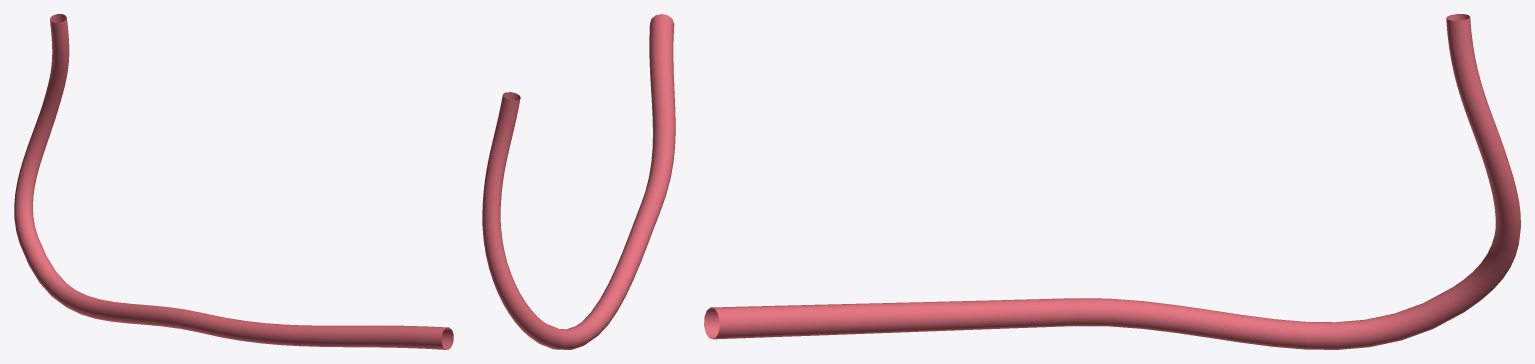
3 views of the same model, side by side, from view 1: azimuth 30°, elevation 25°; view 2: azimuth 150°, elevation 25°; view 3: azimuth 270°, elevation 25° (orthographic). The views are drawn at different scales.
Visible parts, largest first — view 1: ZA_05704e79bd7994d9; view 2: ZA_05704e79bd7994d9; view 3: ZA_05704e79bd7994d9.
Boxes of the visible parts, x1,y1,x2,y2 form: ZA_05704e79bd7994d9: [14, 14, 453, 349]; ZA_05704e79bd7994d9: [482, 14, 675, 349]; ZA_05704e79bd7994d9: [704, 14, 1520, 349].
Bounding box in the file's own units: 0.014 × 0.0194 × 0.0406.
